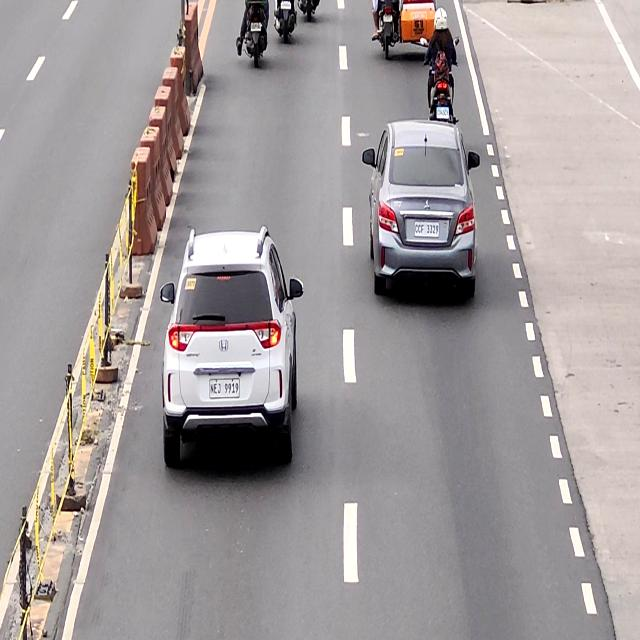Car: (159, 226, 304, 469), (363, 120, 481, 298)
License-Plate: (209, 377, 240, 401), (414, 220, 439, 236), (435, 106, 449, 120), (250, 22, 262, 32), (281, 1, 292, 10), (383, 14, 392, 23)
Motorcycle: (421, 34, 460, 124), (243, 0, 269, 67), (275, 0, 296, 48)
Tricycle: (374, 0, 437, 58)
